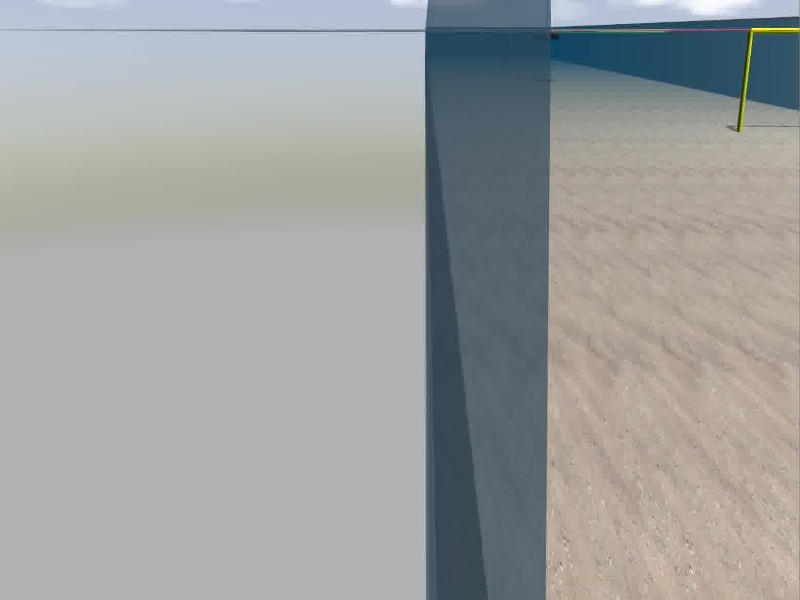gate: (736, 26, 800, 133)
